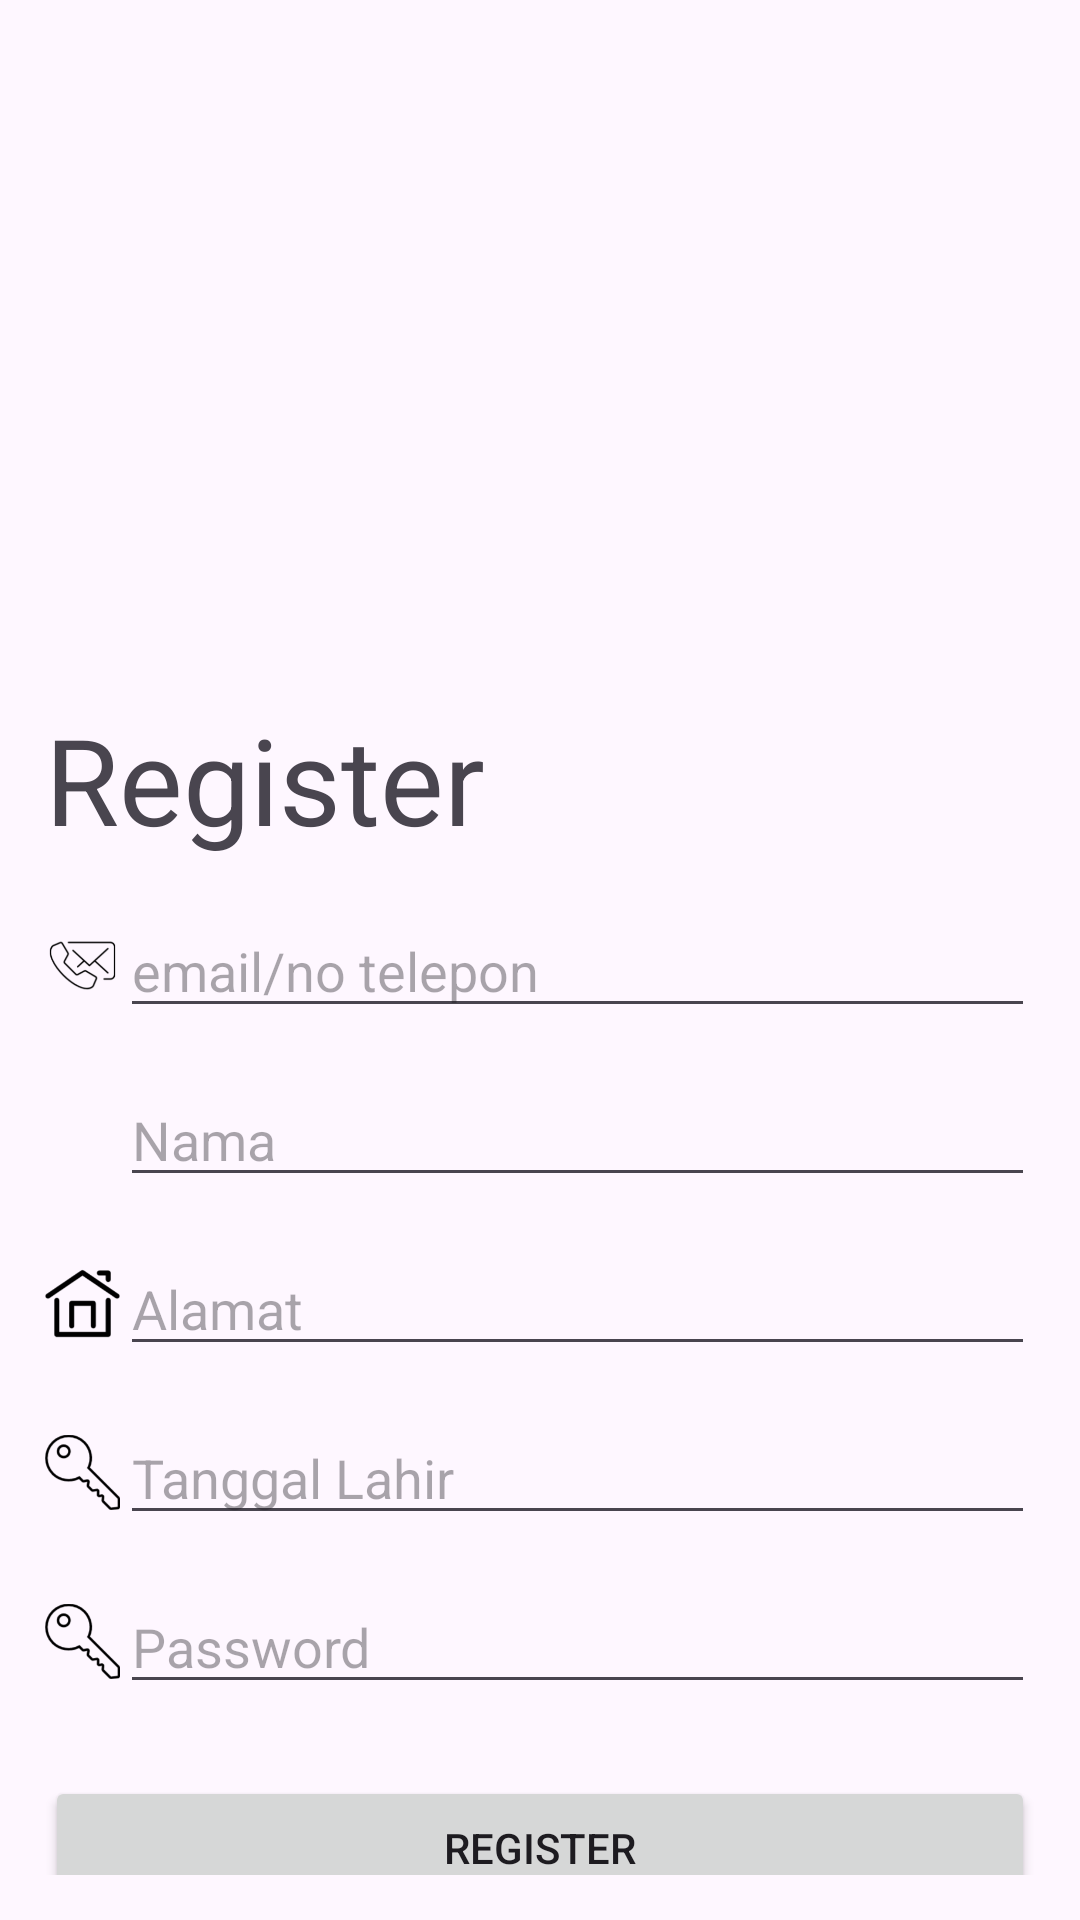

Locate icon controls on the screen. Image size 1080w x 1920h, boxes as (x1, y1, x2, y2).
home: (45, 1270, 120, 1338)
key: (45, 1435, 120, 1510), (45, 1604, 120, 1679)
mailphone: (49, 941, 116, 990)
